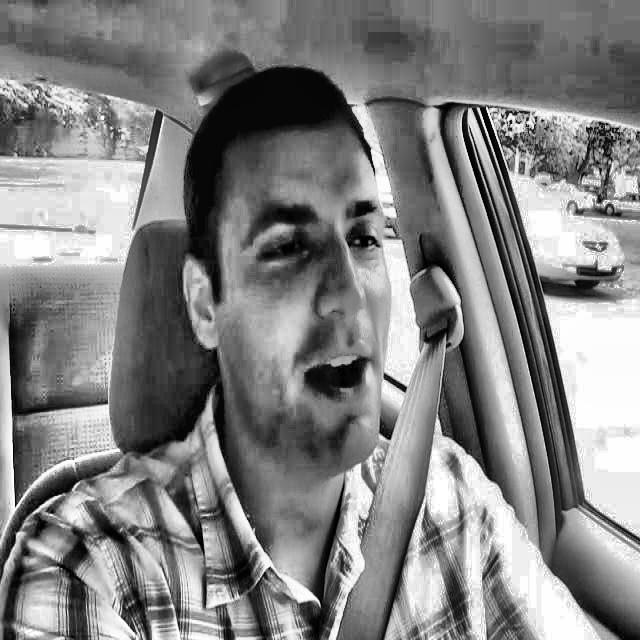open_mouth: (286, 332, 387, 422)
